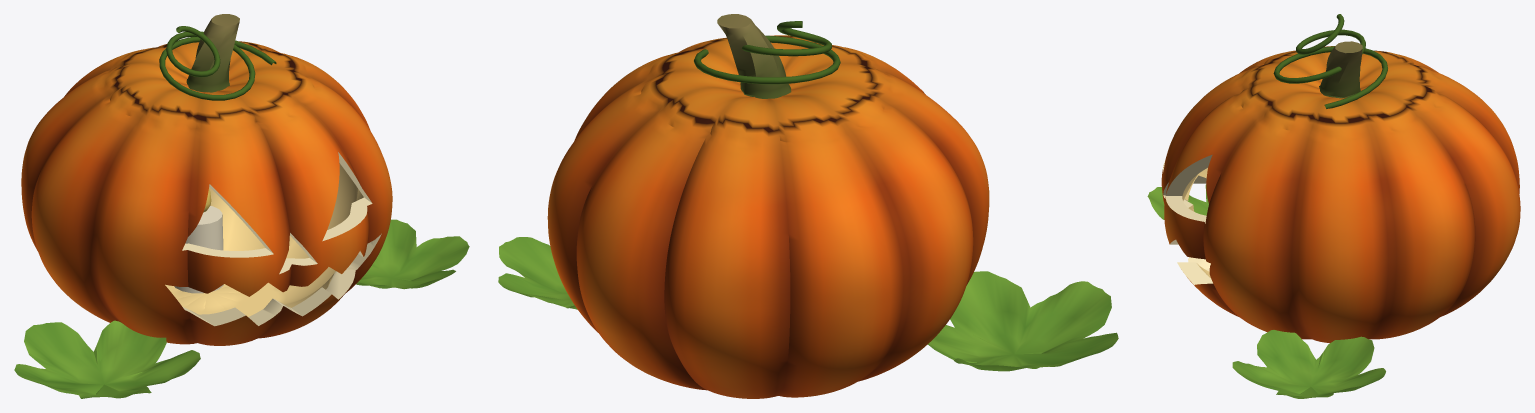
The model's file is hero_lantern.glb.
3 views of the same model, side by side, from view 1: azimuth 30°, elevation 25°; view 2: azimuth 150°, elevation 25°; view 3: azimuth 270°, elevation 25° (orthographic). The views are drawn at different scales.
Visible parts, largest first — view 1: Pumpkin, Leaf_0, Leaf_1, Vine, Stem, Candle; view 2: Pumpkin, Leaf_0, Leaf_1, Stem, Vine; view 3: Pumpkin, Leaf_1, Vine, Stem, Leaf_0.
Part boxes in pixels (<box>): Pumpkin: <box>21,41,392,345</box>; Leaf_0: <box>14,320,200,398</box>; Leaf_1: <box>356,219,469,289</box>; Vine: <box>159,26,276,100</box>; Stem: <box>186,14,239,92</box>; Candle: <box>174,206,223,293</box>; Pumpkin: <box>547,35,989,398</box>; Leaf_0: <box>928,271,1118,371</box>; Leaf_1: <box>498,237,577,309</box>; Stem: <box>717,14,791,98</box>; Vine: <box>694,21,840,84</box>; Pumpkin: <box>1161,46,1520,343</box>; Leaf_1: <box>1232,330,1385,398</box>; Vine: <box>1273,14,1387,108</box>; Stem: <box>1319,41,1362,98</box>; Leaf_0: <box>1147,184,1208,219</box>.
Size of the model in its own units: 1.48 by 0.8575 by 1.03.
